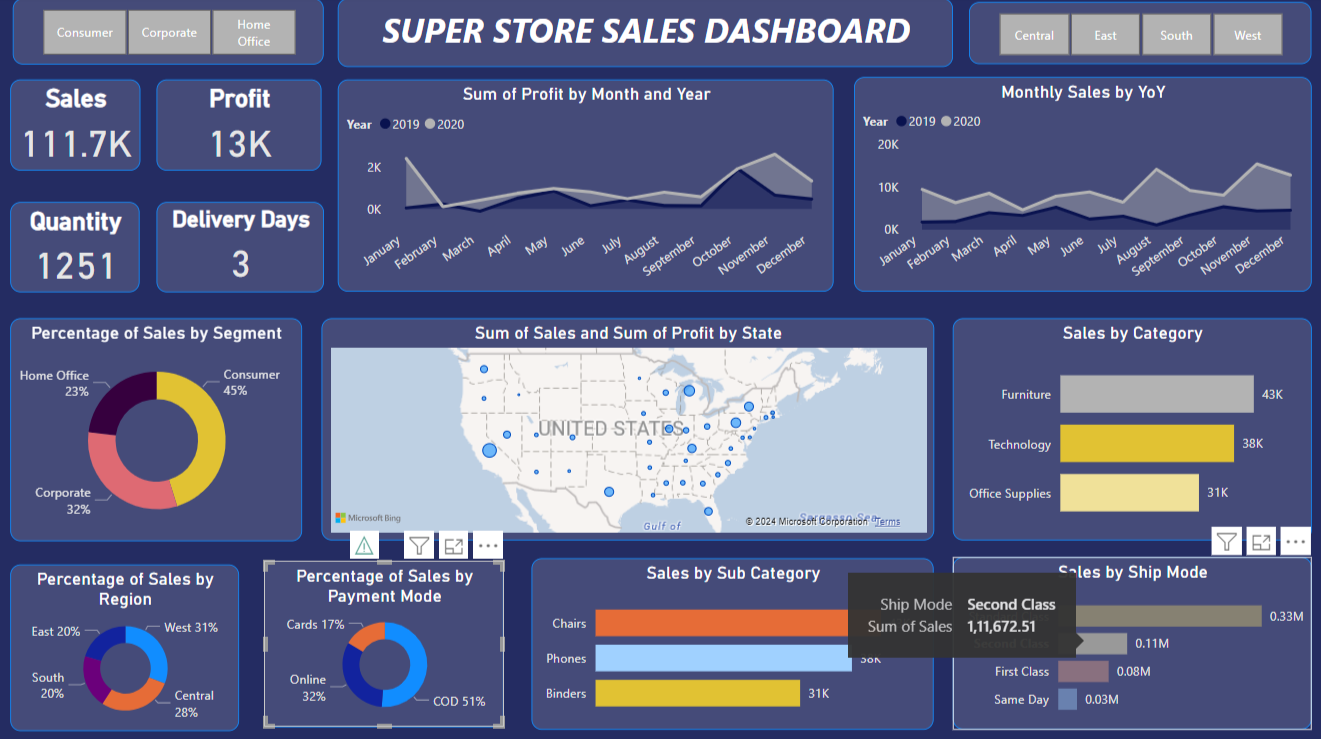

The dashboard page shown, as its layout file describes it:
{"tool":"powerbi","page":{"name":"Page 1","canvas":[1280,720],"ordinal":0},"visuals":[{"type":"clusteredBarChart","title":"Sales by Category","fields":{"Category":["SuperStore_Sales_Dataset.Category"],"Y":["Sum(SuperStore_Sales_Dataset.Sales)"]},"box":[920.2,311.2,346.1,214.7],"z":0},{"type":"clusteredBarChart","title":"Sales by Sub Category","fields":{"Category":["SuperStore_Sales_Dataset.Sub-Category"],"Y":["Sum(SuperStore_Sales_Dataset.Sales)"]},"box":[513.8,542.7,388.3,165.2],"z":1000},{"type":"clusteredBarChart","title":"Sales by Ship Mode","fields":{"Category":["SuperStore_Sales_Dataset.Ship Mode"],"Y":["Sum(SuperStore_Sales_Dataset.Sales)"]},"box":[920,541.2,346.2,166.2],"z":2000},{"type":"stackedAreaChart","title":"Monthly Sales by YoY","fields":{"Y":["Sum(SuperStore_Sales_Dataset.Sales)"],"Category":["SuperStore_Sales_Dataset.Order Date.Variation.Date Hierarchy.Month","SuperStore_Sales_Dataset.Order Date.Variation.Date Hierarchy.Day"],"Series":["SuperStore_Sales_Dataset.Order Date.Variation.Date Hierarchy.Year"]},"box":[825,78.8,441.2,207.5],"z":3000},{"type":"stackedAreaChart","fields":{"Category":["SuperStore_Sales_Dataset.Order Date.Variation.Date Hierarchy.Month","SuperStore_Sales_Dataset.Order Date.Variation.Date Hierarchy.Day"],"Series":["SuperStore_Sales_Dataset.Order Date.Variation.Date Hierarchy.Year"],"Y":["Sum(SuperStore_Sales_Dataset.Profit)"]},"box":[326.2,81.2,478.8,205],"z":4000},{"type":"map","fields":{"Category":["SuperStore_Sales_Dataset.State"],"Size":["Sum(SuperStore_Sales_Dataset.Sales)"]},"box":[311.2,311.2,591,214.7],"z":5000},{"type":"donutChart","title":"Percentage of Sales by Segment","fields":{"Category":["SuperStore_Sales_Dataset.Segment"],"Y":["Sum(SuperStore_Sales_Dataset.Sales)"]},"box":[11.2,311.2,281.2,215],"z":6000},{"type":"donutChart","title":"Percentage of Sales by Payment Mode","fields":{"Category":["SuperStore_Sales_Dataset.Payment Mode"],"Y":["Sum(SuperStore_Sales_Dataset.Sales)"]},"box":[255.7,545.1,231.6,160.4],"z":7000},{"type":"slicer","fields":{"Values":["SuperStore_Sales_Dataset.Region"]},"box":[936.2,6.2,330,60],"z":8000},{"type":"textbox","box":[326.2,2.5,593.8,66.2],"z":9000},{"type":"card","title":"Sales","fields":{"Values":["Sum(SuperStore_Sales_Dataset.Sales)"]},"box":[11.2,81.2,125,87.5],"z":10000},{"type":"card","title":"Quantity","fields":{"Values":["Sum(SuperStore_Sales_Dataset.Quantity)"]},"box":[11.2,198.8,125,87.5],"z":11000},{"type":"card","title":"Profit","fields":{"Values":["Sum(SuperStore_Sales_Dataset.Profit)"]},"box":[161.2,81.2,152.5,87.5],"z":12000},{"type":"card","title":"Delivery Days","fields":{"Values":["Avg(SuperStore_Sales_Dataset.AvgDelievery)"]},"box":[162.5,198.8,151.2,87.5],"z":13000},{"type":"donutChart","title":"Percentage of Sales by Region","fields":{"Category":["SuperStore_Sales_Dataset.Region"],"Y":["Sum(SuperStore_Sales_Dataset.Sales)"]},"box":[10.9,548.7,220.7,160.4],"z":14000},{"type":"slicer","fields":{"Values":["SuperStore_Sales_Dataset.Segment"]},"box":[11.2,2.5,300,63.8],"z":15000}]}

Visuals, with their boxes in screenshot pixels (x1, y1, x2, y2), scaled from the page's 1280x720 canvas onto the 1321x739 screenshot:
"Sales by Category" clusteredBarChart: bbox=[950, 319, 1307, 540]
"Sales by Sub Category" clusteredBarChart: bbox=[530, 557, 931, 727]
"Sales by Ship Mode" clusteredBarChart: bbox=[949, 555, 1307, 726]
"Monthly Sales by YoY" stackedAreaChart: bbox=[851, 81, 1307, 294]
stackedAreaChart - SuperStore_Sales_Dataset.Order Date.Variation.Date Hierarchy.Month x SuperStore_Sales_Dataset.Order Date.Variation.Date Hierarchy.Day: bbox=[337, 83, 831, 294]
map - SuperStore_Sales_Dataset.State x Sum(SuperStore_Sales_Dataset.Sales): bbox=[321, 319, 931, 540]
"Percentage of Sales by Segment" donutChart: bbox=[12, 319, 302, 540]
"Percentage of Sales by Payment Mode" donutChart: bbox=[264, 559, 503, 724]
slicer - SuperStore_Sales_Dataset.Region: bbox=[966, 6, 1307, 68]
textbox: bbox=[337, 3, 949, 71]
"Sales" card: bbox=[12, 83, 141, 173]
"Quantity" card: bbox=[12, 204, 141, 294]
"Profit" card: bbox=[166, 83, 324, 173]
"Delivery Days" card: bbox=[168, 204, 324, 294]
"Percentage of Sales by Region" donutChart: bbox=[11, 563, 239, 728]
slicer - SuperStore_Sales_Dataset.Segment: bbox=[12, 3, 321, 68]
